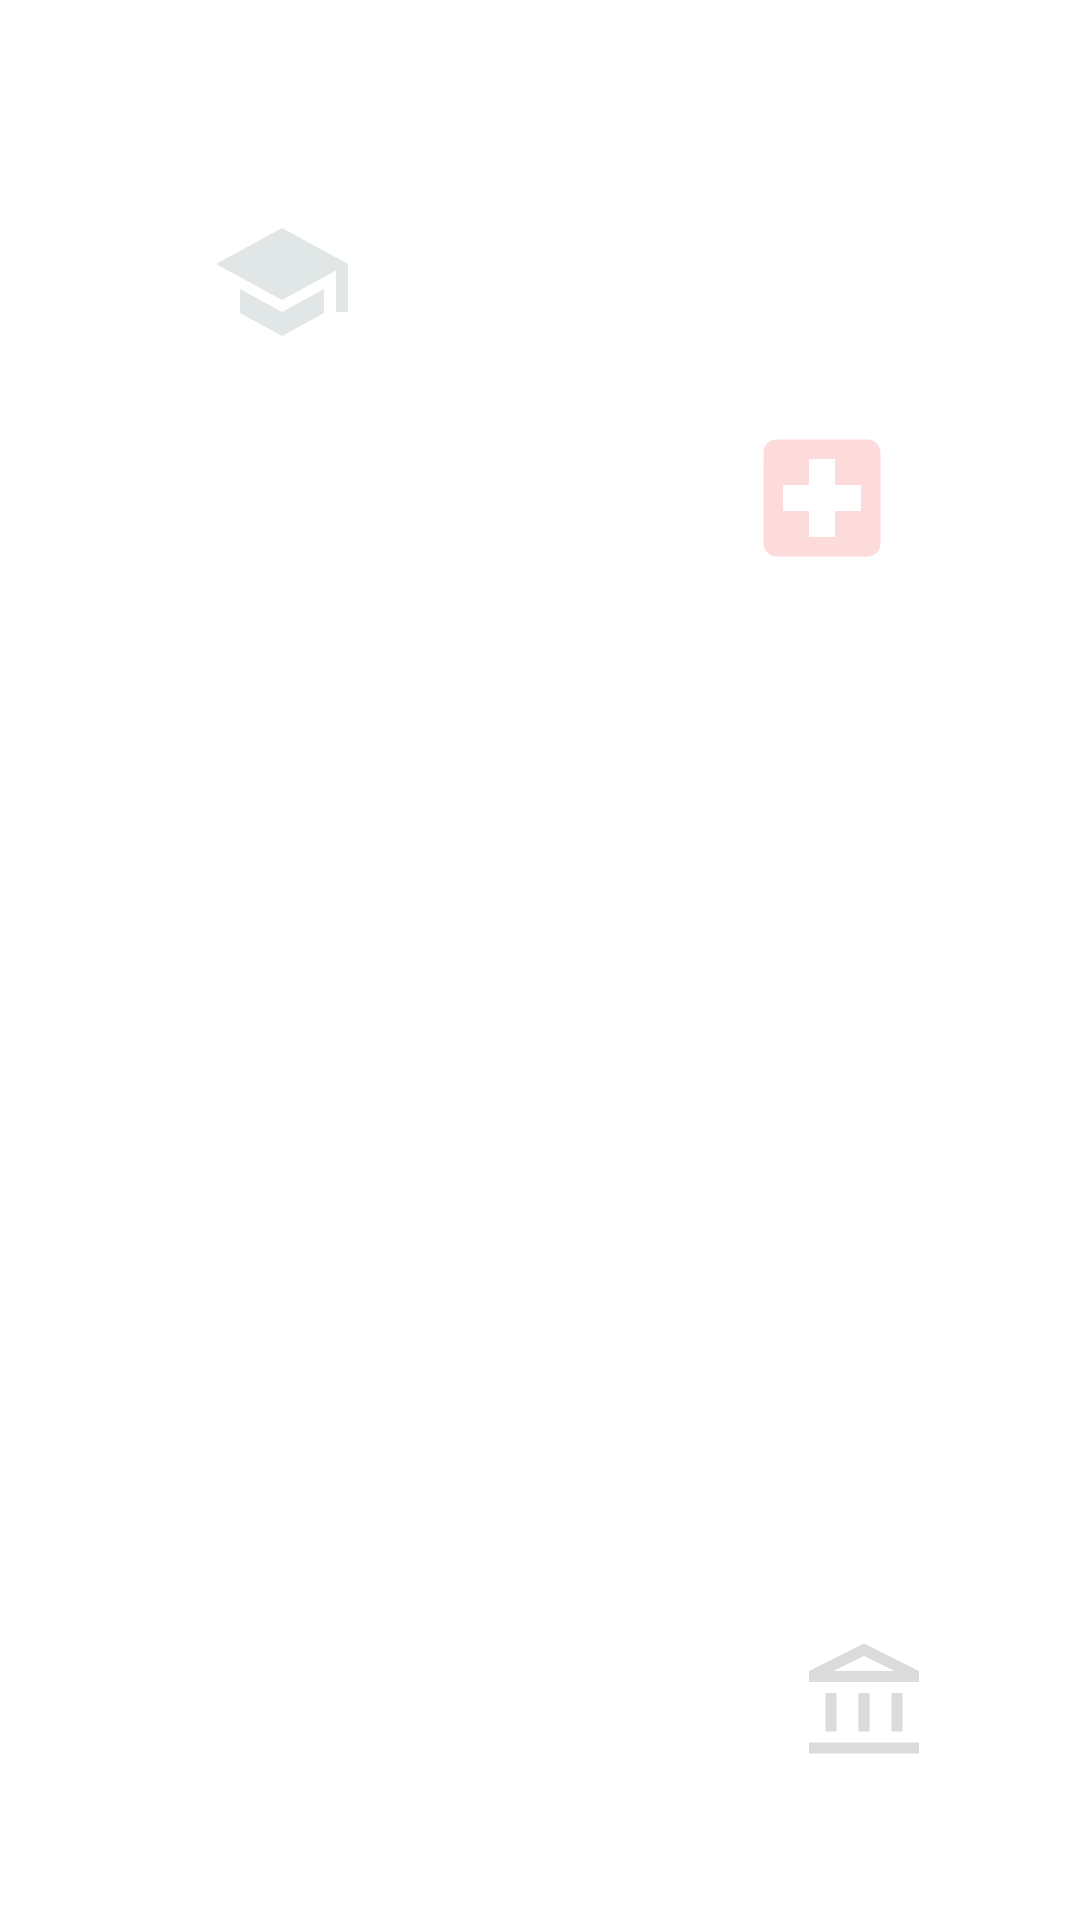

Point at icon controls on the screen. Image size 1080px×1920px, points as [x,y].
bank: [864,1698]
student: [282,282]
